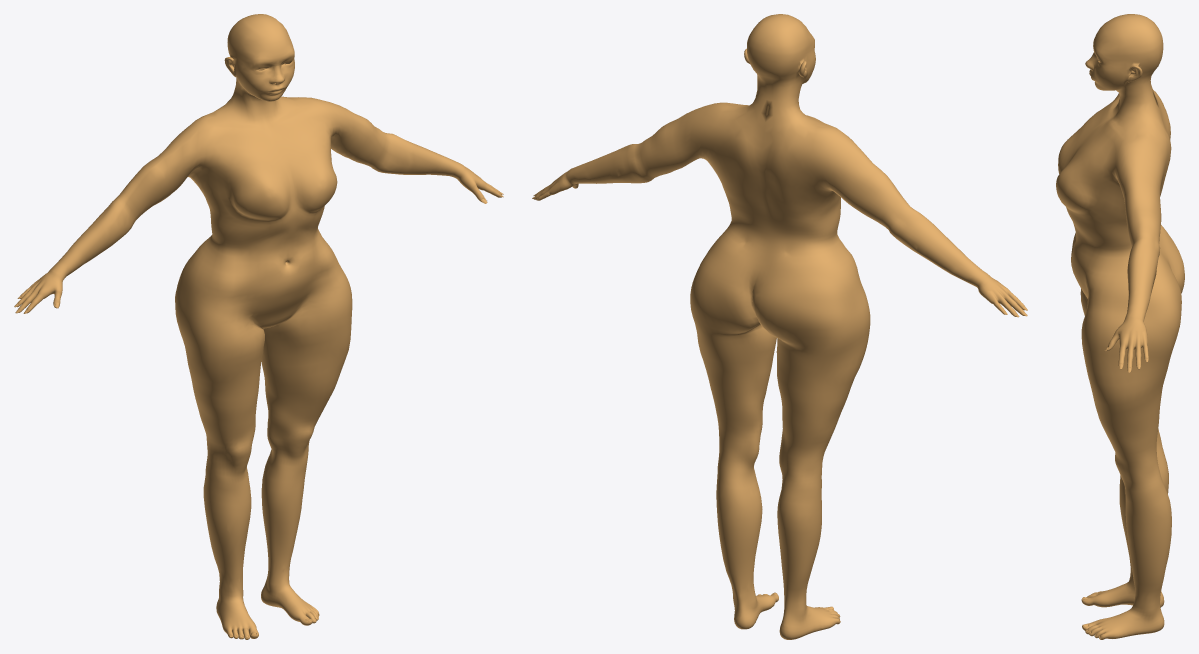
The model's file is female_XL_3.glb.
3 renders of one model, left to right at view 1: azimuth 30°, elevation 25°; view 2: azimuth 150°, elevation 25°; view 3: azimuth 270°, elevation 25°, orthographic.
Parts seen in each view (by area): view 1: Body; view 2: Body; view 3: Body.
Boxes of the visible parts, <box> form: Body: <box>16,14,503,639</box>; Body: <box>533,14,1024,639</box>; Body: <box>1056,14,1184,639</box>.
Bounding box in the file's own units: 1.58 × 1.85 × 0.3591.
